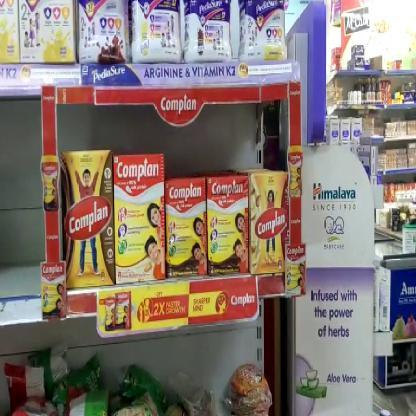Complan Kesar Badam: (250, 170, 290, 274)
Complan Royal Chocolate: (165, 176, 206, 276)
